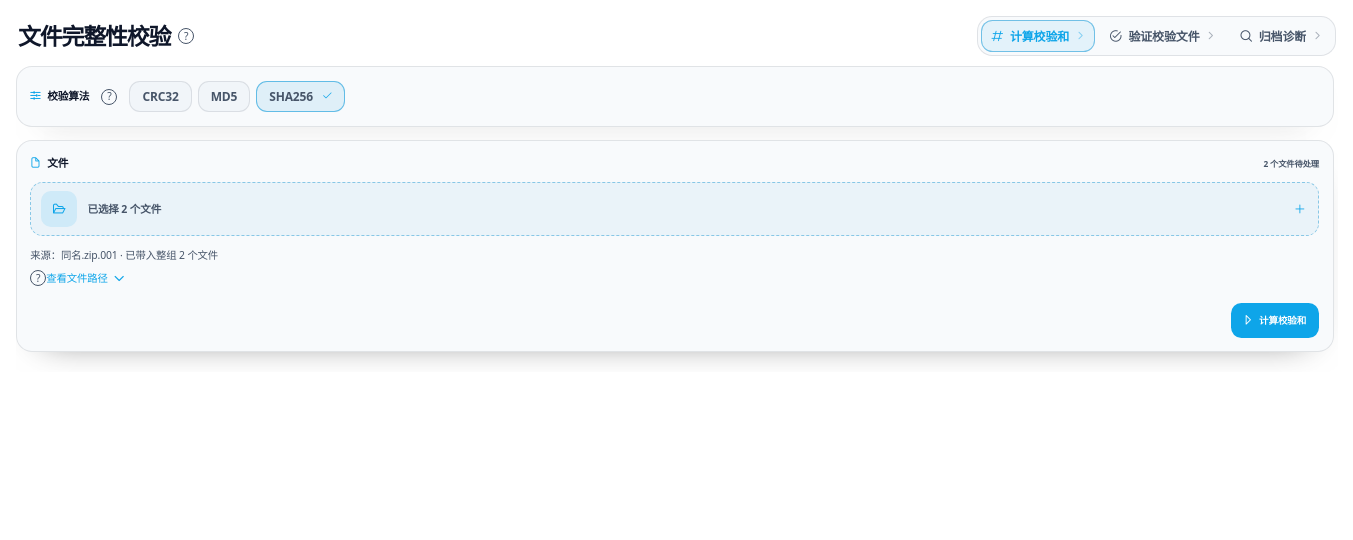
Test: result checksums v1.5.25 › waits for the user to start, distinguishes same names and keeps inline details
This screenshot has width=1353, height=540.
expect the element with test id "checksum-source-summary" shows "整组 2 个文件": met, box [30,248,218,262]
What coordinates should you click on to do the following:
click the button with test id "checksum-calculate-start"
I would click on:
 (1275, 320)
Its box is [1231,303,1319,338].
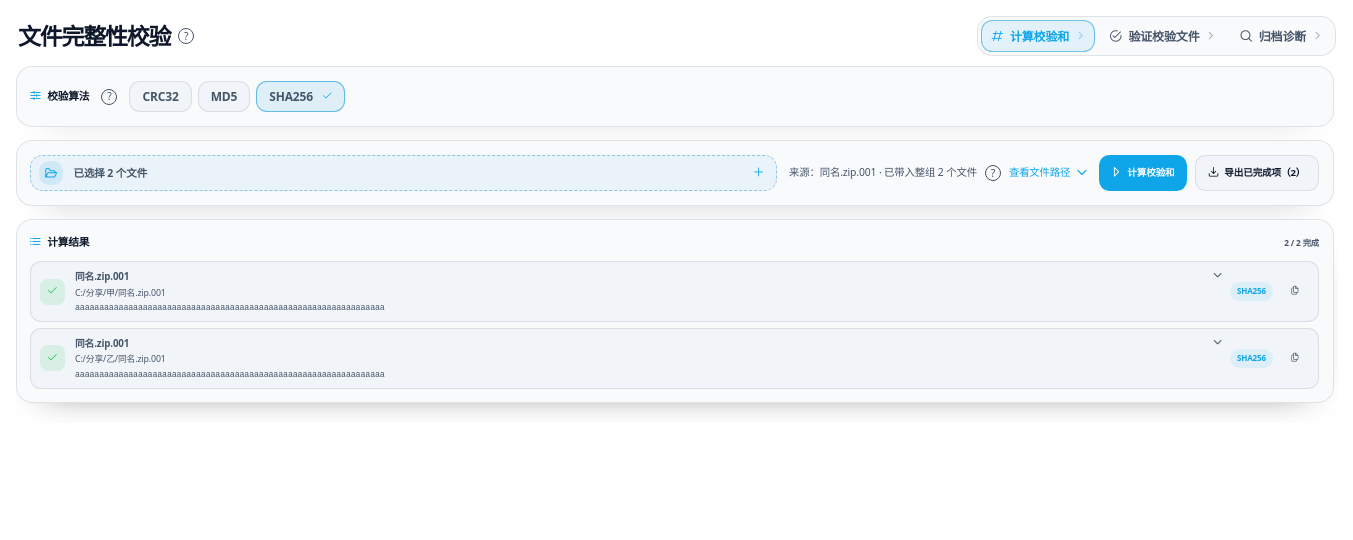
expect the number of elements with test id "checksum-calculation-entry" is 2: met, box [30,261,1319,322]; [30,328,1319,389]
What coordinates should you click on to do the following:
click the 2nd button with test id "checksum-calculation-toggle"
I would click on:
 (102, 343)
Its box is [75,336,1222,351].
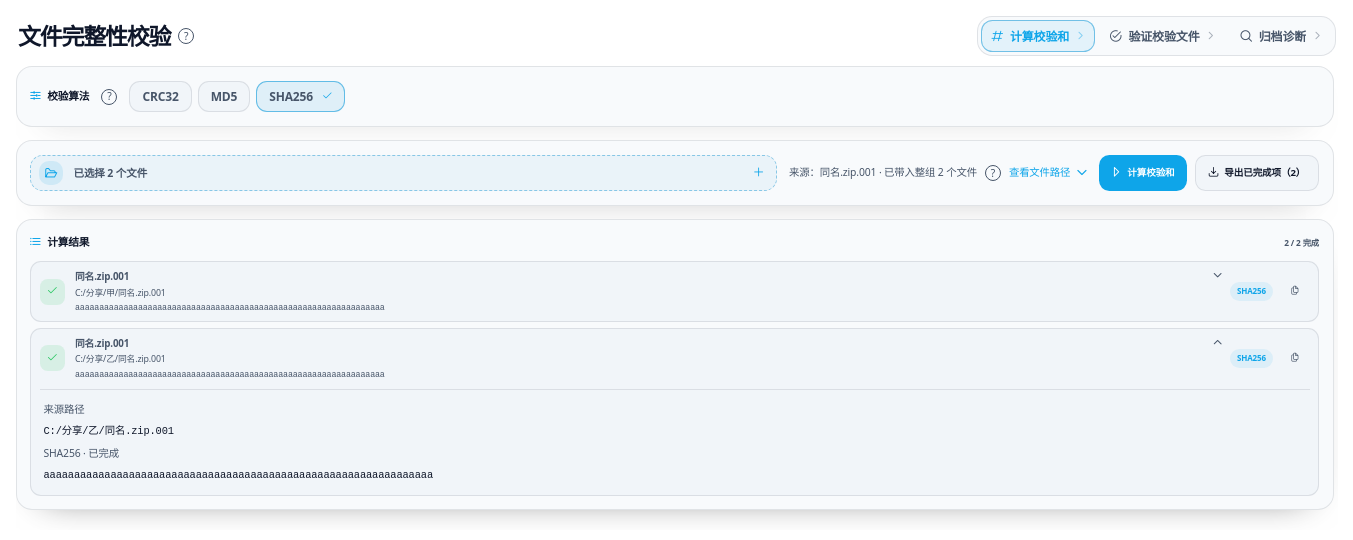
expect the element with test id "checksum-calculation-details" shows "C:/分享/乙/同名.zip.001": met, box [44,425,174,437]
